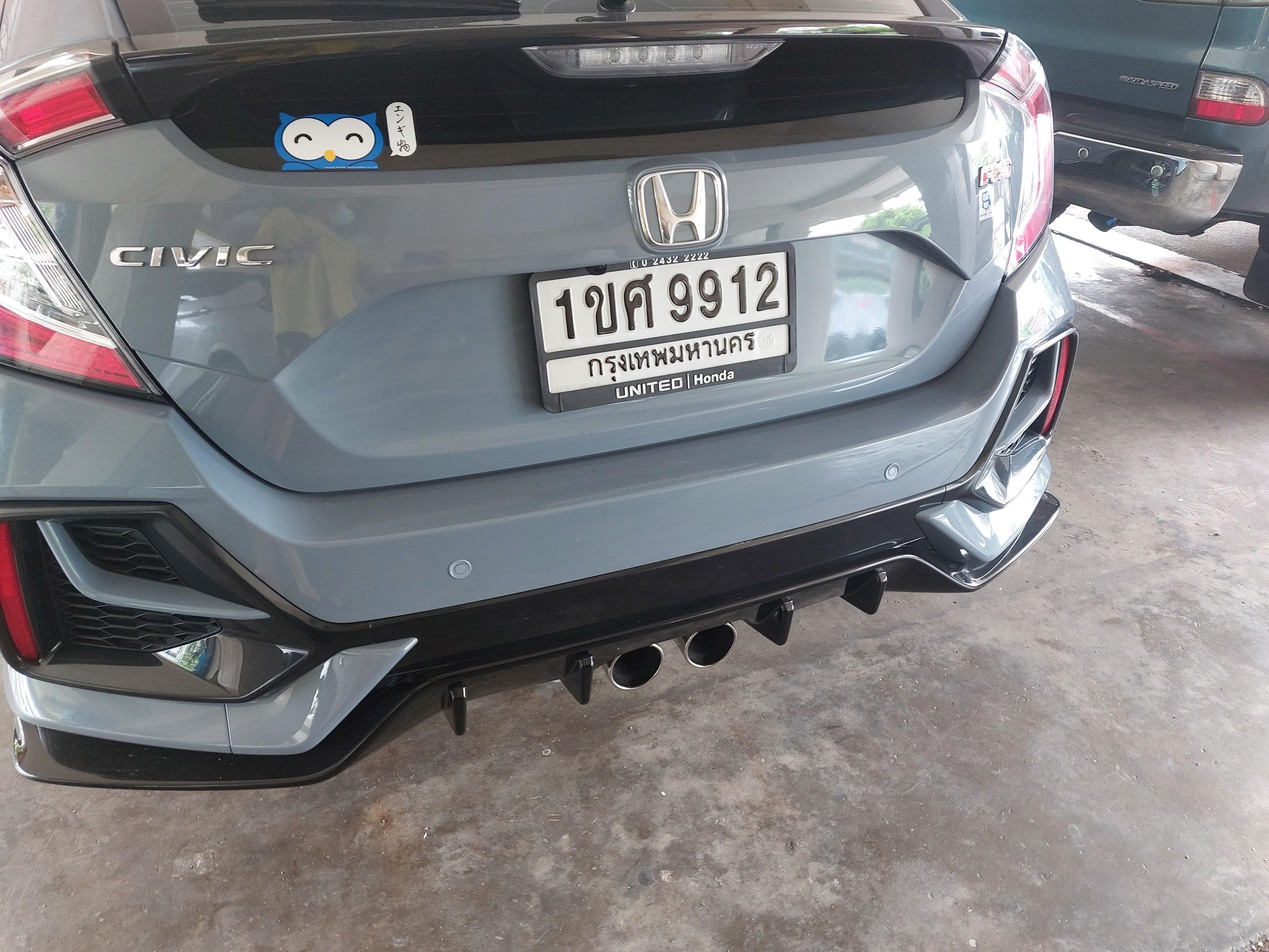license-plate: (524, 239, 803, 414)
